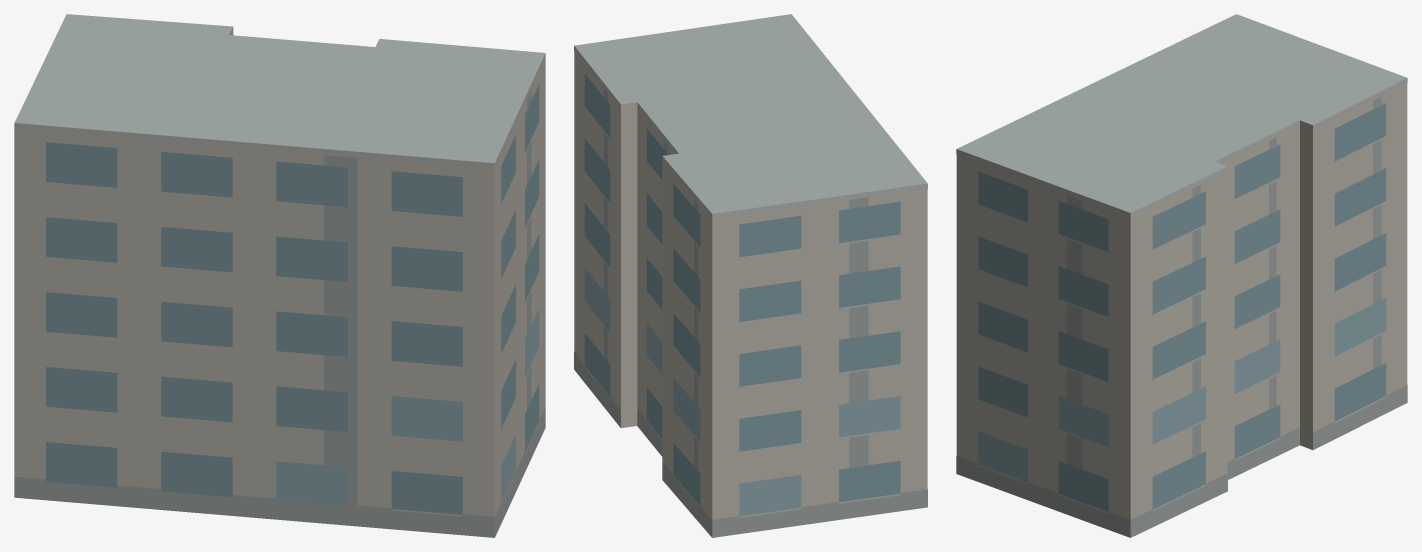
Rendered from survey-upis-32886192.glb.
3 renders of one model, left to right at view 1: azimuth 30°, elevation 25°; view 2: azimuth 150°, elevation 25°; view 3: azimuth 270°, elevation 25°, orthographic. The views are drawn at different scales.
Parts seen in each view (by area): view 1: survey-upis-32886192.tmp; view 2: survey-upis-32886192.tmp; view 3: survey-upis-32886192.tmp.
Boxes of the visible parts, bbox=[...] form: survey-upis-32886192.tmp: bbox=[14, 14, 545, 537]; survey-upis-32886192.tmp: bbox=[574, 14, 927, 537]; survey-upis-32886192.tmp: bbox=[956, 14, 1407, 537].
Bounding box in the file's own units: 19.05 × 14.5 × 18.24.
